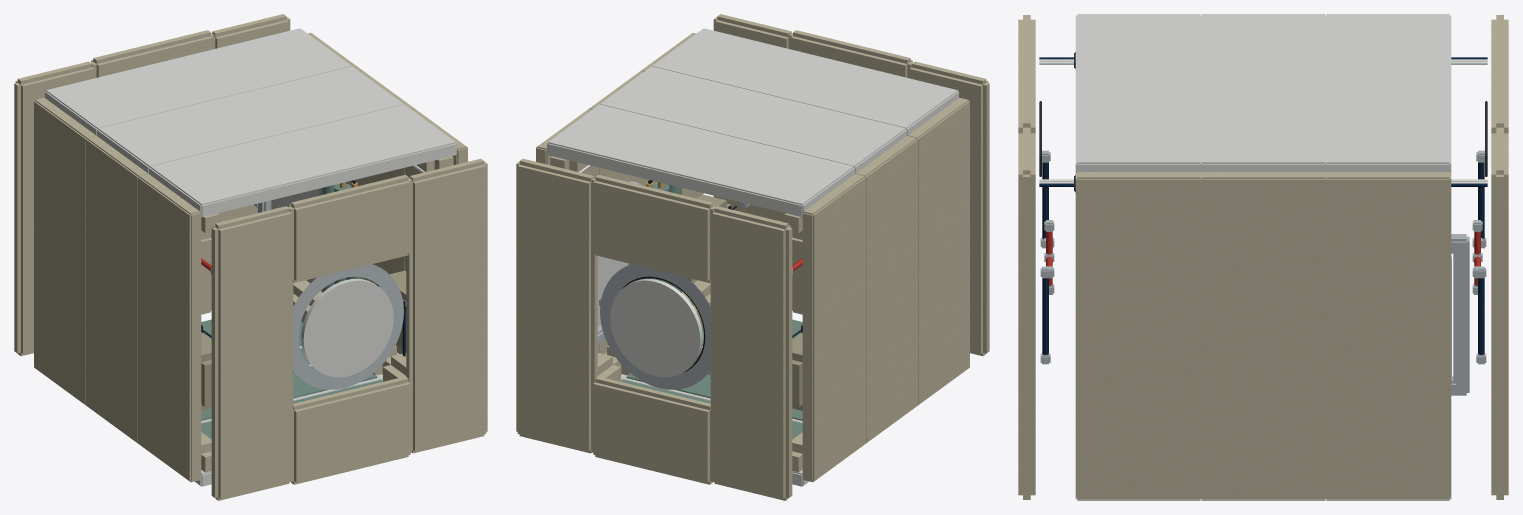
Rendered from poisk_optimized.glb.
3 views of the same model, side by side, from view 1: azimuth 30°, elevation 25°; view 2: azimuth 150°, elevation 25°; view 3: azimuth 270°, elevation 25° (orthographic). The views are drawn at different scales.
Parts seen in each view (by area): view 1: poisk_interior; view 2: poisk_interior; view 3: poisk_interior.
Part boxes in pixels (x1,y1,x2,y2): poisk_interior: [14, 14, 487, 500]; poisk_interior: [516, 14, 989, 500]; poisk_interior: [1018, 14, 1508, 500].
Bounding box in the file's own units: 3.09 × 3 × 3.94.
13 materials, 3 textured.
